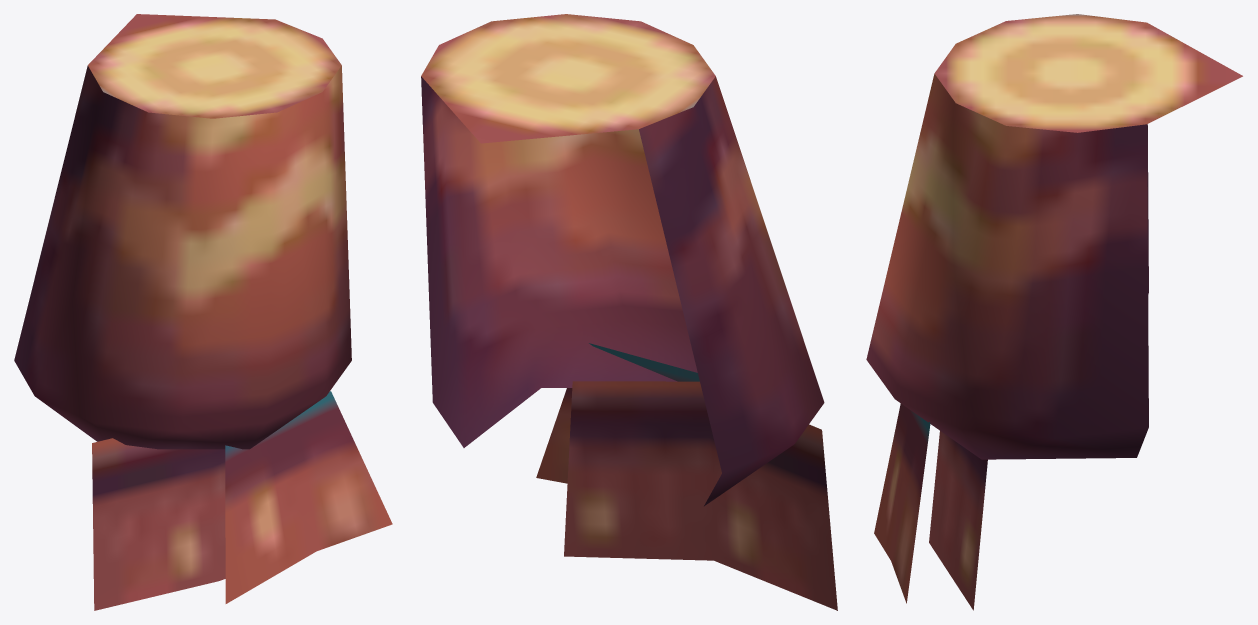
Rendered from fg_treeC_2_b.dae.
3 views of the same model, side by side, from view 1: azimuth 30°, elevation 25°; view 2: azimuth 150°, elevation 25°; view 3: azimuth 270°, elevation 25° (orthographic). The views are drawn at different scales.
Visible parts, largest first — view 1: fg_treeC_2_b; view 2: fg_treeC_2_b; view 3: fg_treeC_2_b.
Part boxes in pixels (x1,y1,x2,y2): fg_treeC_2_b: (14, 14, 392, 610); fg_treeC_2_b: (421, 14, 837, 610); fg_treeC_2_b: (866, 14, 1242, 610).
Bounding box in the file's own units: 12 × 17.75 × 11.87.
Materials: 1 (1 with a texture image).
